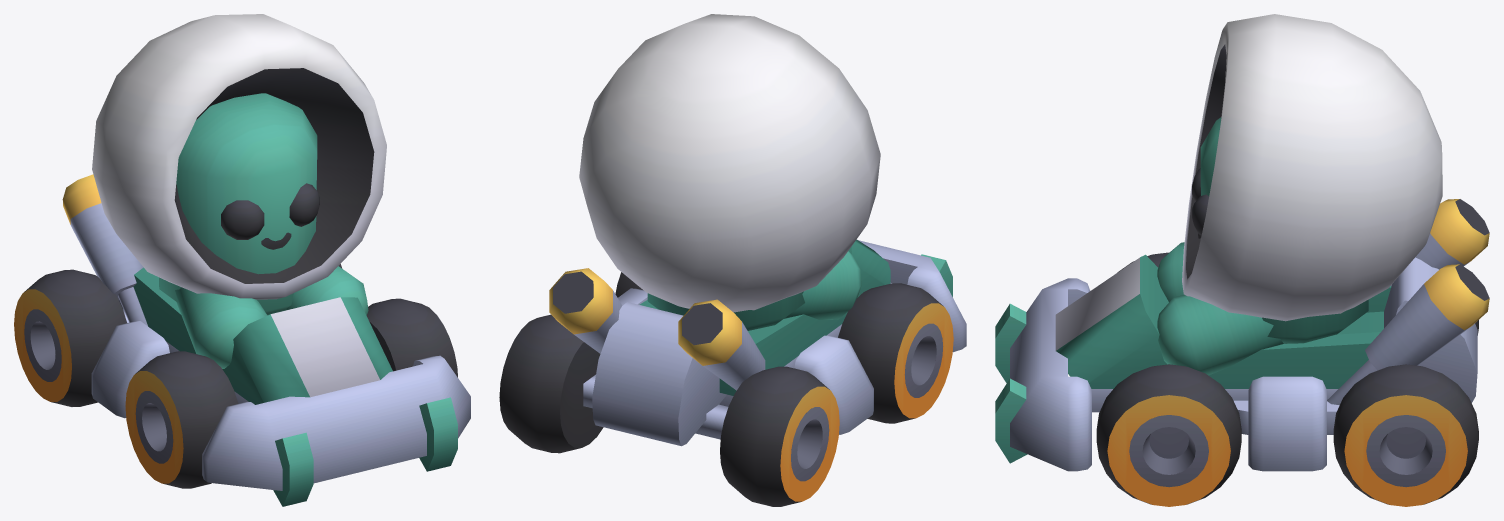
Rendered from kart-oopi.glb.
3 views of the same model, side by side, from view 1: azimuth 30°, elevation 25°; view 2: azimuth 150°, elevation 25°; view 3: azimuth 270°, elevation 25° (orthographic). The views are drawn at different scales.
Parts seen in each view (by area): view 1: character, kart-oopi, wheel-back-right, wheel-front-right, wheel-front-left; view 2: character, kart-oopi, wheel-back-right, wheel-front-right, wheel-back-left; view 3: character, kart-oopi, wheel-front-left, wheel-back-left.
Part boxes in pixels (x1,y1,x2,y2): character: (92, 14, 386, 368); kart-oopi: (62, 174, 470, 506); wheel-back-right: (14, 269, 126, 406); wheel-front-right: (125, 351, 238, 488); wheel-front-left: (366, 298, 457, 377); character: (579, 14, 880, 330); kart-oopi: (549, 239, 966, 446); wheel-back-right: (720, 366, 839, 506); wheel-front-right: (838, 283, 953, 423); wheel-back-left: (499, 314, 603, 453); character: (1157, 14, 1442, 375); kart-oopi: (995, 199, 1489, 471); wheel-front-left: (1096, 364, 1241, 506); wheel-back-left: (1333, 364, 1478, 506).
Bounding box in the file's own units: 0.9743 × 1.33 × 1.43.
1 material, 1 textured.
